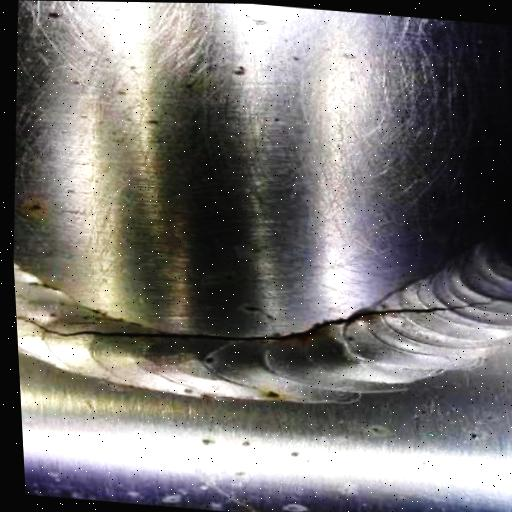corrosion: (30, 272, 454, 377)
